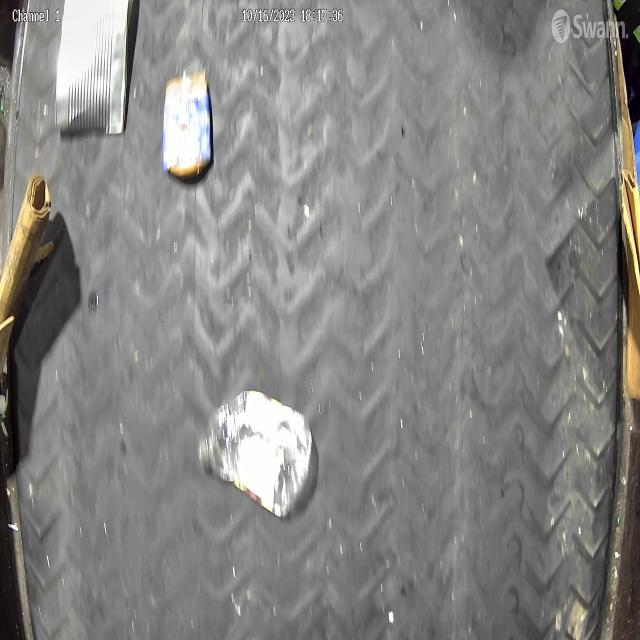can: (53, 0, 133, 135), (163, 68, 214, 184)
plastic_bottle: (197, 388, 314, 520)
